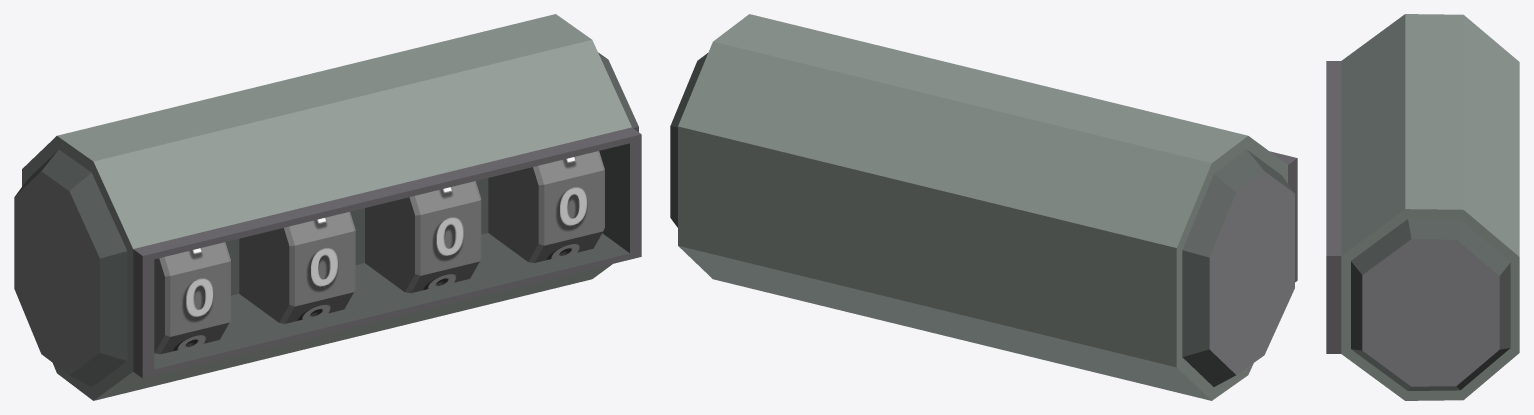
The model's file is Padlock.glb.
The picture shows the model from 3 angles, left to right: view 1: azimuth 30°, elevation 25°; view 2: azimuth 150°, elevation 25°; view 3: azimuth 270°, elevation 25°; orthographic projection. The views are drawn at different scales.
Visible parts, largest first — view 1: Padlock.001, PadlockRullet, PadlockRullet.002, PadlockRullet.003, PadlockRullet.001; view 2: Padlock.001; view 3: Padlock.001.
Part boxes in pixels (left/top/right/bottom): Padlock.001: left=14, top=14, right=641, bottom=400; PadlockRullet: left=239, top=211, right=355, bottom=323; PadlockRullet.002: left=365, top=181, right=481, bottom=293; PadlockRullet.003: left=488, top=151, right=604, bottom=262; PadlockRullet.001: left=154, top=242, right=230, bottom=354; Padlock.001: left=670, top=14, right=1297, bottom=400; Padlock.001: left=1326, top=14, right=1519, bottom=400.
Bounding box in the file's own units: 0.5664 × 0.2404 × 0.2198.
Materials: 3 (3 with a texture image).
